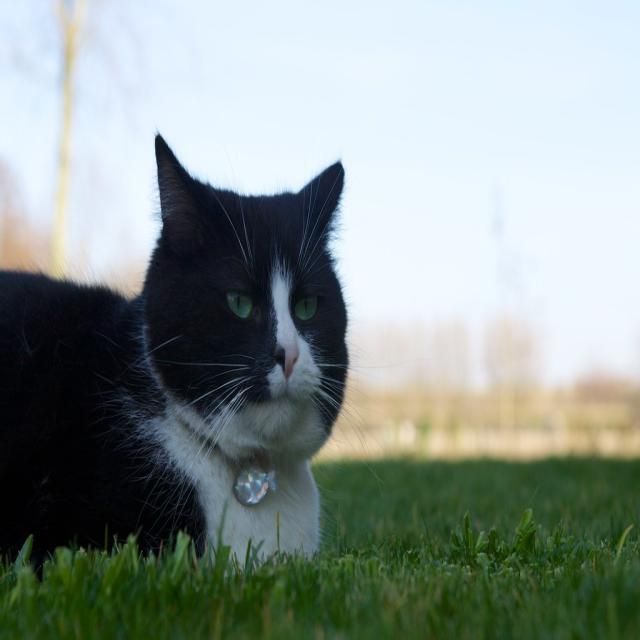Cat: (0, 126, 402, 577)
